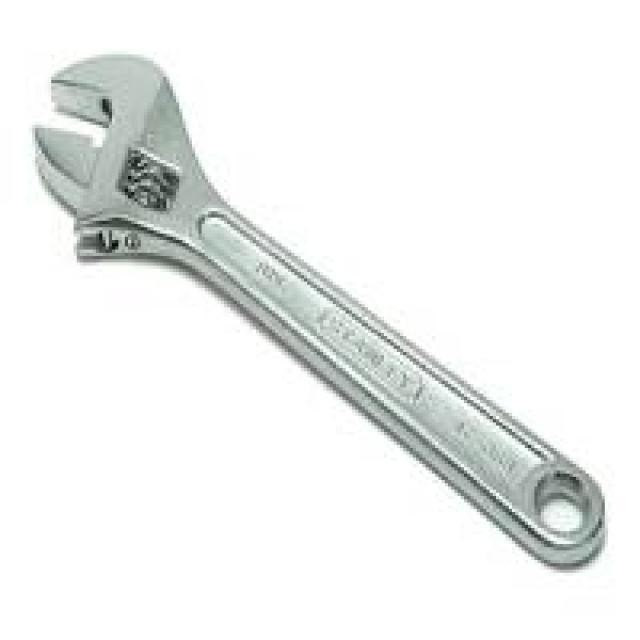wrench: (21, 41, 610, 576)
